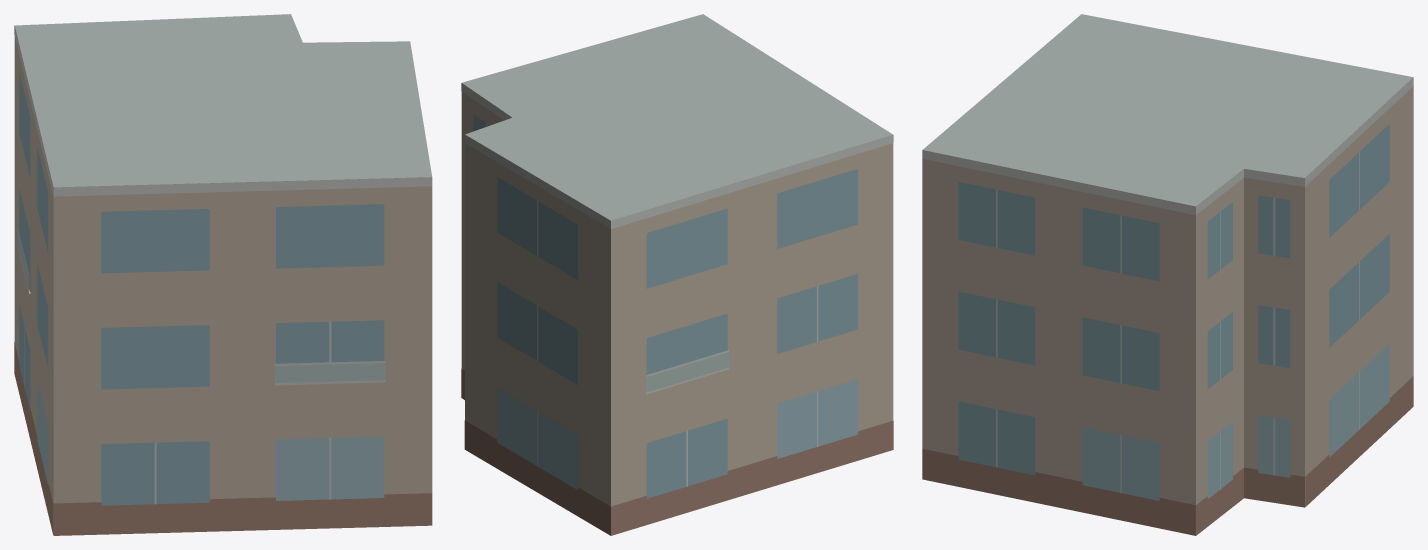
File: survey-upis-32680848.glb
The picture shows the model from 3 angles, left to right: view 1: azimuth 30°, elevation 25°; view 2: azimuth 150°, elevation 25°; view 3: azimuth 270°, elevation 25°; orthographic projection. The views are drawn at different scales.
Parts seen in each view (by area): view 1: survey-upis-32680848.tmp; view 2: survey-upis-32680848.tmp; view 3: survey-upis-32680848.tmp.
Part boxes in pixels (left/top/right/bottom): survey-upis-32680848.tmp: left=14, top=14, right=432, bottom=535; survey-upis-32680848.tmp: left=461, top=14, right=893, bottom=535; survey-upis-32680848.tmp: left=922, top=14, right=1413, bottom=535.
Size of the model in its own units: 11.47 by 9.15 by 12.37.
